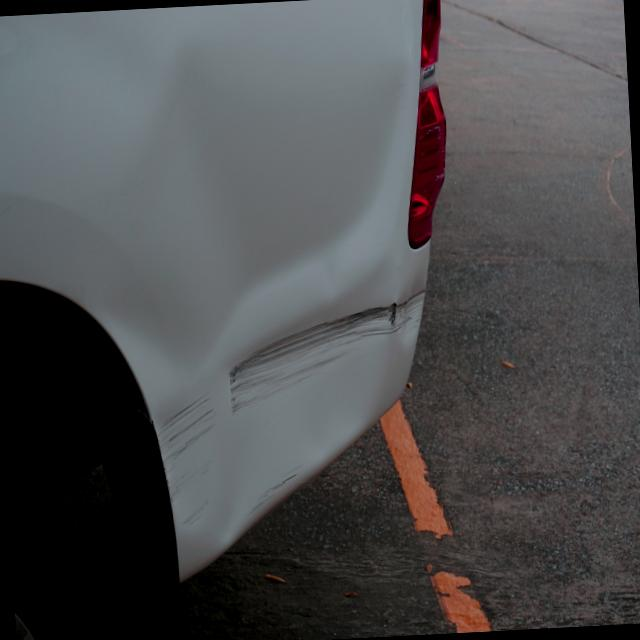Cabossage: (194, 388, 370, 566)
Rayure: (153, 287, 437, 542)
